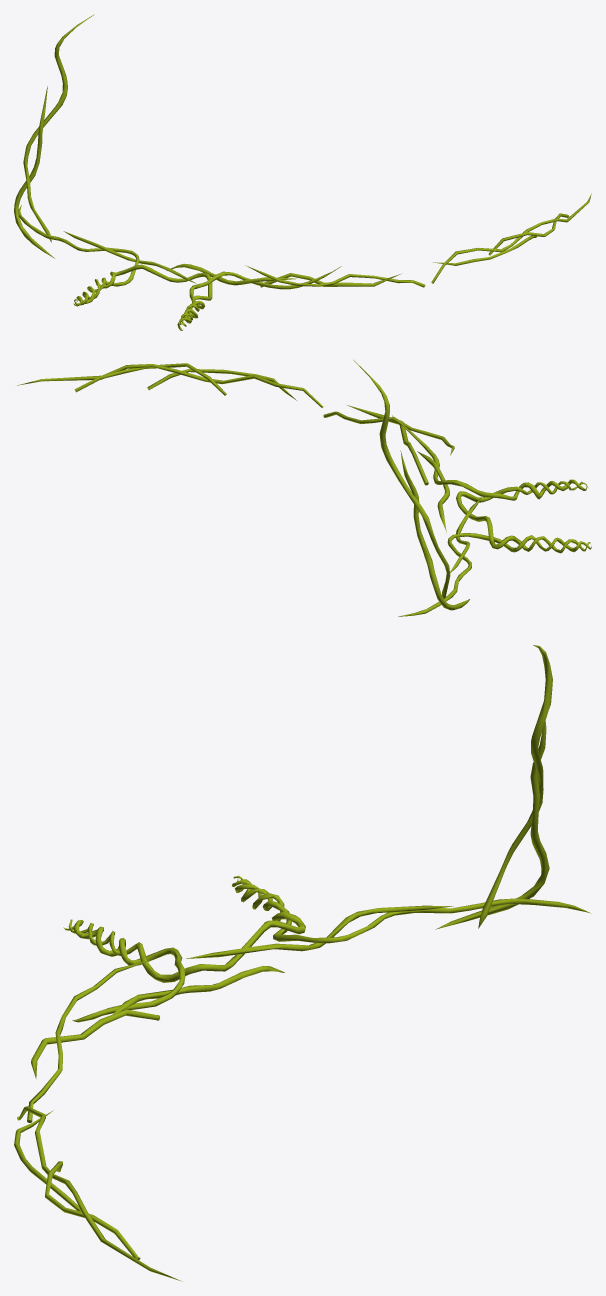
The model's file is microfil1.glb.
3 renders of one model, top to bottom at view 1: azimuth 30°, elevation 25°; view 2: azimuth 150°, elevation 25°; view 3: azimuth 270°, elevation 25°, orthographic. The views are drawn at different scales.
Visible parts, largest first — view 1: Microfilaments.001; view 2: Microfilaments.001; view 3: Microfilaments.001.
Part boxes in pixels (bbox=[...]): Microfilaments.001: bbox=[14, 14, 591, 330]; Microfilaments.001: bbox=[17, 359, 591, 616]; Microfilaments.001: bbox=[14, 645, 590, 1281].
Bounding box in the file's own units: 16.59 × 6.52 × 10.04.
